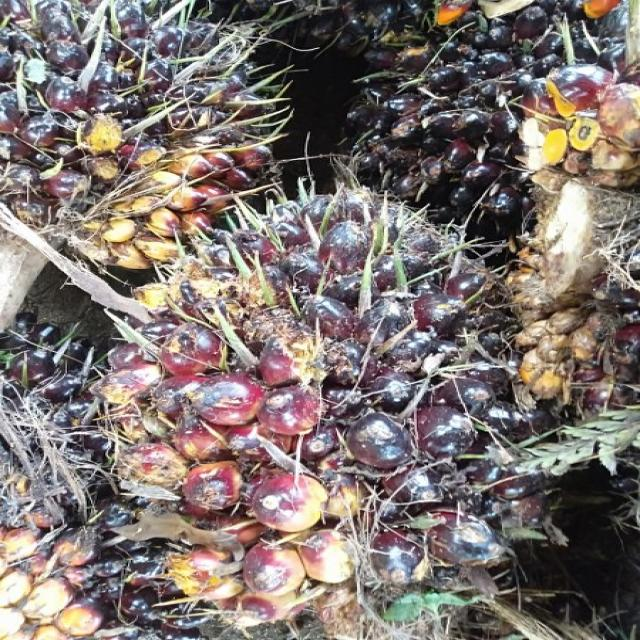fraksi 1: (49, 160, 581, 635)
